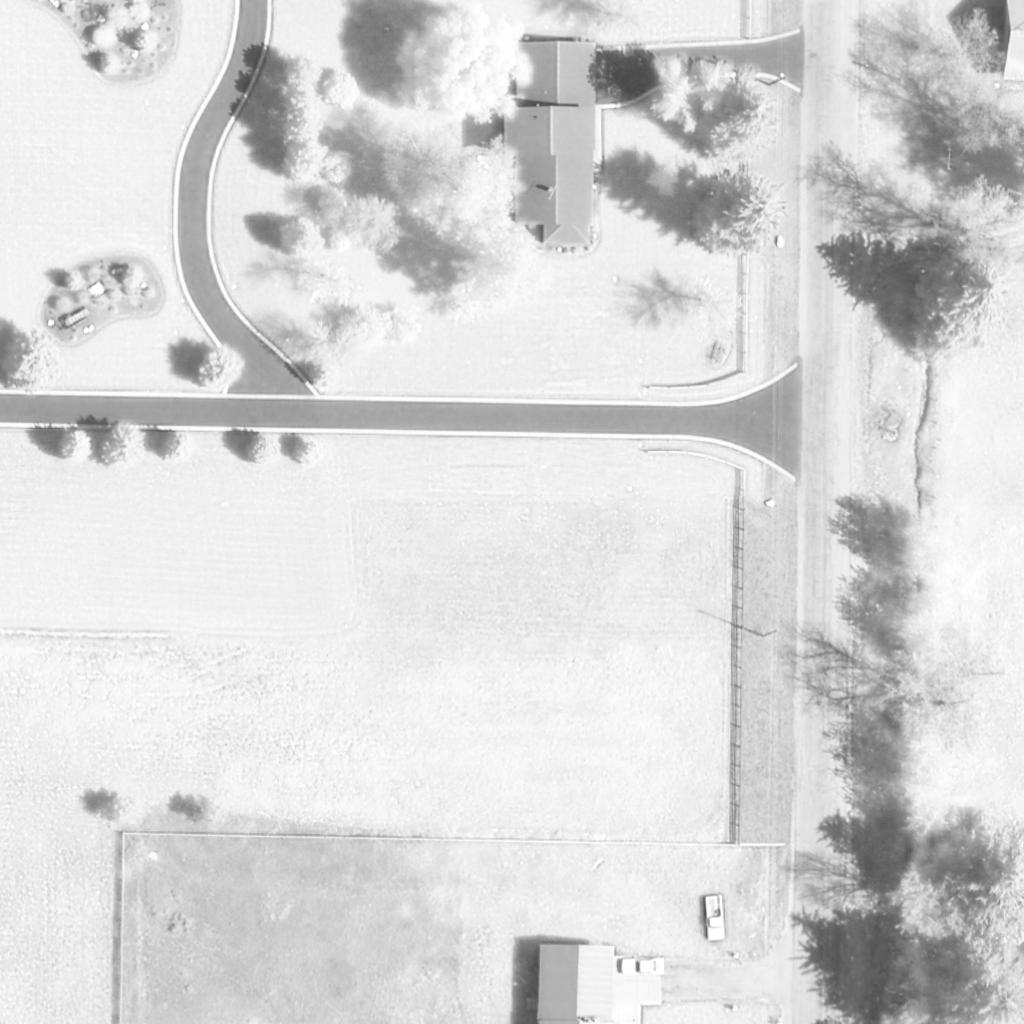vehicle: (703, 896, 727, 940), (620, 958, 666, 976)
